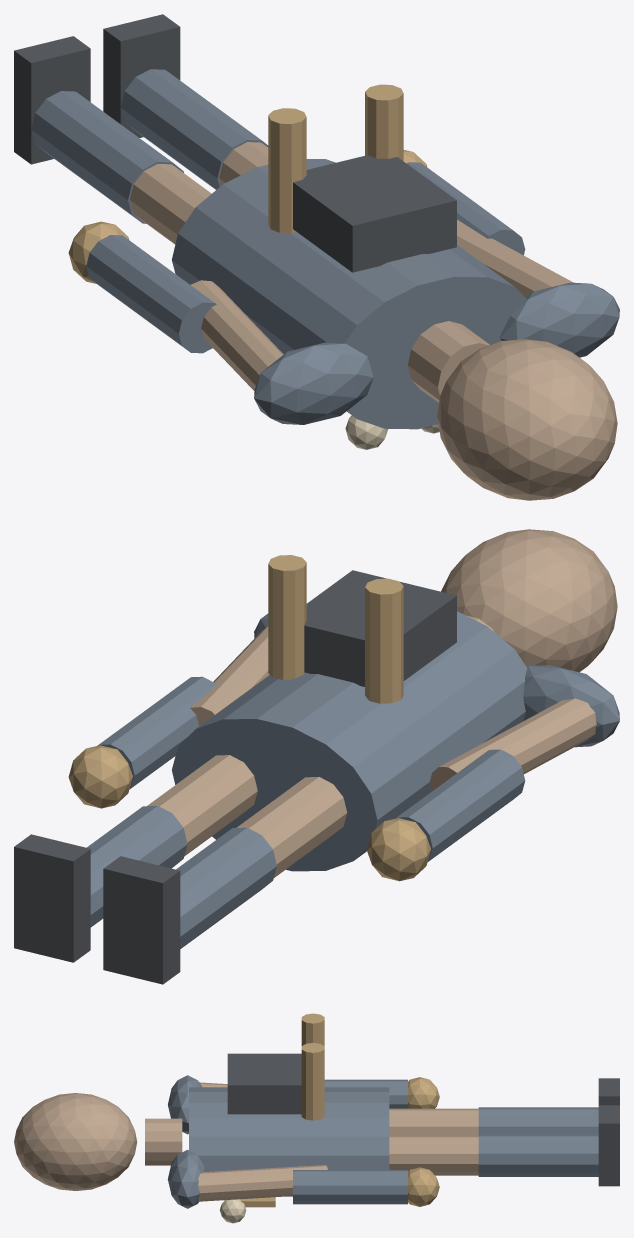
File: SWN-028_sovan_kade.glb
The picture shows the model from 3 angles, top to bottom: view 1: azimuth 30°, elevation 25°; view 2: azimuth 150°, elevation 25°; view 3: azimuth 270°, elevation 25°; orthographic projection. The views are drawn at different scales.
Visible parts, largest first — view 1: body_spine, head, back_thruster_pack, greave_-1, greave_1, shoulder_plate_-1, forearm_gauntlet_-1, shoulder_plate_1, boot_-1, boot_1, upper_arm_-1, aether_thruster_-1 (+8 smaller); view 2: body_spine, head, back_thruster_pack, boot_-1, boot_1, greave_-1, forearm_gauntlet_-1, thigh_1, thigh_-1, upper_arm_-1, forearm_gauntlet_1, greave_1 (+6 smaller); view 3: body_spine, head, greave_1, back_thruster_pack, forearm_gauntlet_1, thigh_1, greave_-1, upper_arm_1, thigh_-1, aether_thruster_1, boot_1, neck (+9 smaller).
Part boxes in pixels (box(x1,y1,x2,y2)): body_spine: box(172, 159, 527, 429); head: box(437, 339, 617, 500); back_thruster_pack: box(293, 155, 456, 272); greave_-1: box(31, 91, 183, 223); greave_1: box(120, 69, 268, 189); shoulder_plate_-1: box(254, 342, 373, 424); forearm_gauntlet_-1: box(86, 235, 216, 353); shoulder_plate_1: box(500, 282, 619, 357); boot_-1: box(14, 36, 90, 164); boot_1: box(103, 14, 180, 137); upper_arm_-1: box(191, 280, 283, 390); aether_thruster_-1: box(268, 108, 306, 233); body_spine: box(172, 611, 527, 871); head: box(441, 529, 617, 672); back_thruster_pack: box(304, 570, 456, 686); boot_-1: box(103, 856, 180, 984); boot_1: box(14, 834, 90, 962); greave_-1: box(176, 827, 276, 948); forearm_gauntlet_-1: box(395, 749, 525, 861); thigh_1: box(147, 755, 257, 856); thigh_-1: box(236, 777, 347, 877); upper_arm_-1: box(429, 698, 596, 791); forearm_gauntlet_1: box(97, 676, 216, 789); greave_1: box(86, 805, 187, 927); body_spine: box(189, 1087, 389, 1196); head: box(14, 1093, 137, 1190); greave_1: box(478, 1134, 598, 1176); back_thruster_pack: box(227, 1053, 301, 1114); forearm_gauntlet_1: box(293, 1170, 407, 1204); thigh_1: box(389, 1135, 478, 1175); greave_-1: box(478, 1107, 598, 1134); upper_arm_1: box(198, 1165, 327, 1201); thigh_-1: box(389, 1108, 478, 1135); aether_thruster_1: box(301, 1043, 324, 1120); boot_1: box(598, 1105, 619, 1186); neck: box(145, 1118, 182, 1165).
Bounding box in the file's own units: 0.982 × 0.74 × 2.27.
